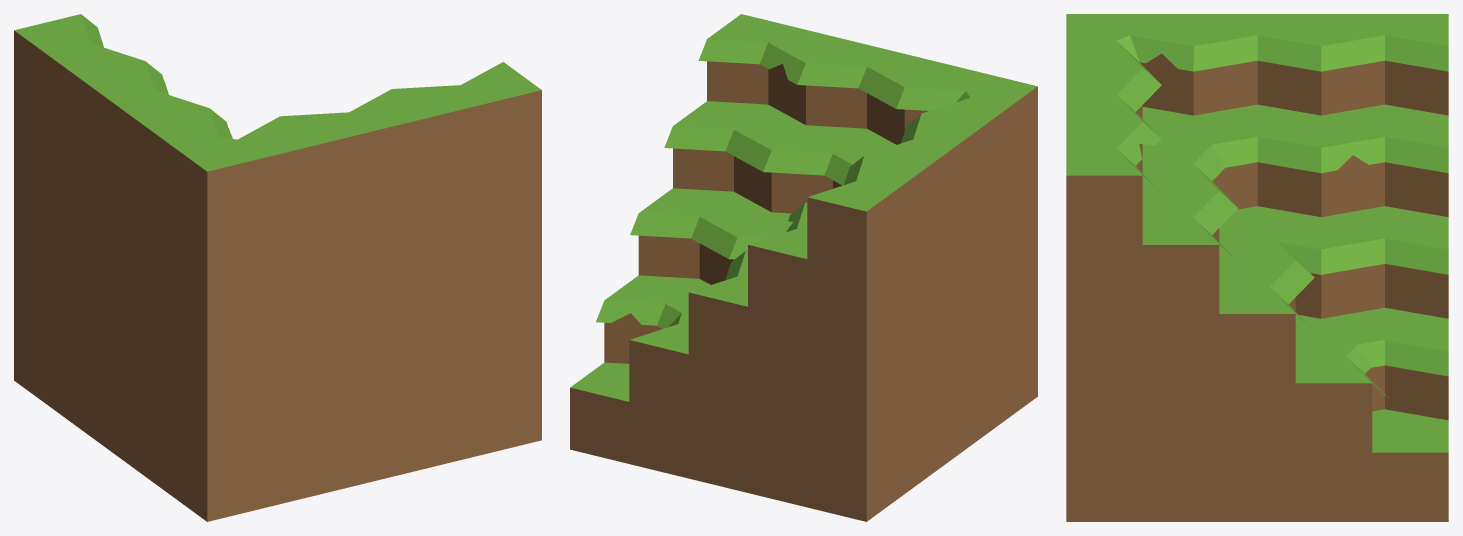
File: cliff_stepsCornerInner_rock.glb
3 renders of one model, left to right at view 1: azimuth 30°, elevation 25°; view 2: azimuth 150°, elevation 25°; view 3: azimuth 270°, elevation 25°, orthographic. The views are drawn at different scales.
Parts seen in each view (by area): view 1: cliff_stepsCornerInner_rock; view 2: cliff_stepsCornerInner_rock; view 3: cliff_stepsCornerInner_rock.
Boxes of the visible parts, x1,y1,x2,y2 form: cliff_stepsCornerInner_rock: (14, 14, 541, 521); cliff_stepsCornerInner_rock: (570, 14, 1037, 521); cliff_stepsCornerInner_rock: (1066, 14, 1448, 521).
Size of the model in its own units: 1 by 1 by 1.
